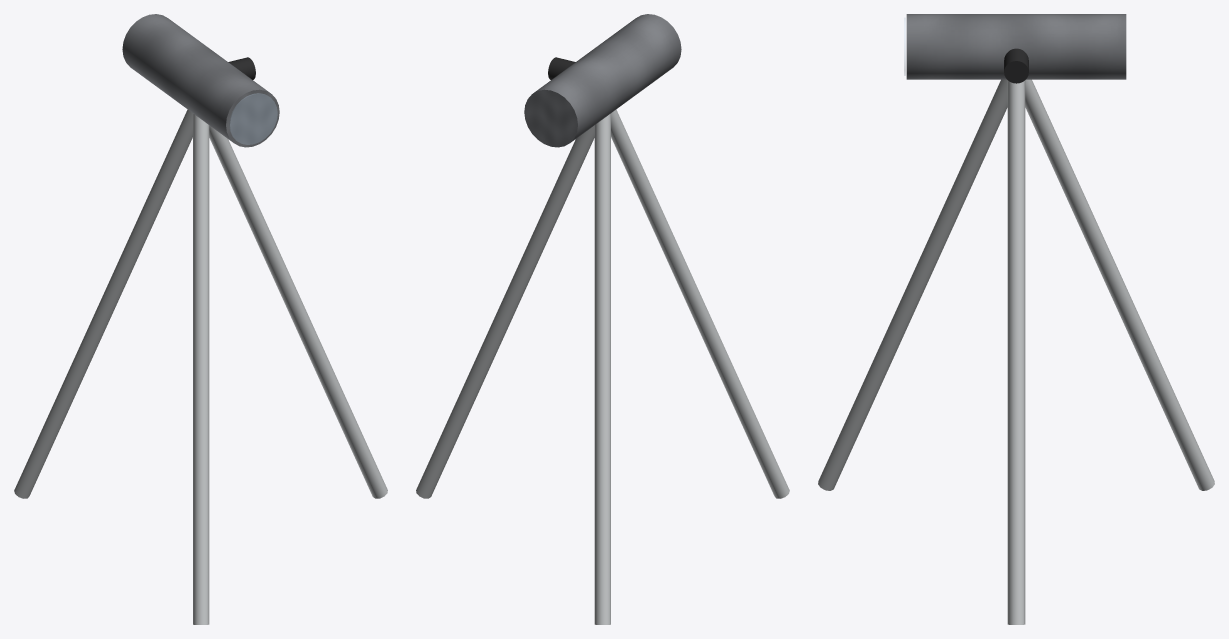
File: fps-weapon-set-and-firing-range-spotting-scope-6417a1f1__19512.glb
The picture shows the model from 3 angles, left to right: view 1: azimuth 30°, elevation 25°; view 2: azimuth 150°, elevation 25°; view 3: azimuth 270°, elevation 25°; orthographic projection. The views are drawn at different scales.
Parts seen in each view (by area): view 1: spotting-scope; view 2: spotting-scope; view 3: spotting-scope.
Boxes of the visible parts, x1=… form: spotting-scope: x1=14, y1=14, x2=387, y2=624; spotting-scope: x1=416, y1=14, x2=789, y2=624; spotting-scope: x1=818, y1=14, x2=1214, y2=624.
Bounding box in the file's own units: 0.4723 × 0.7797 × 0.5415.
4 materials, 1 textured.
